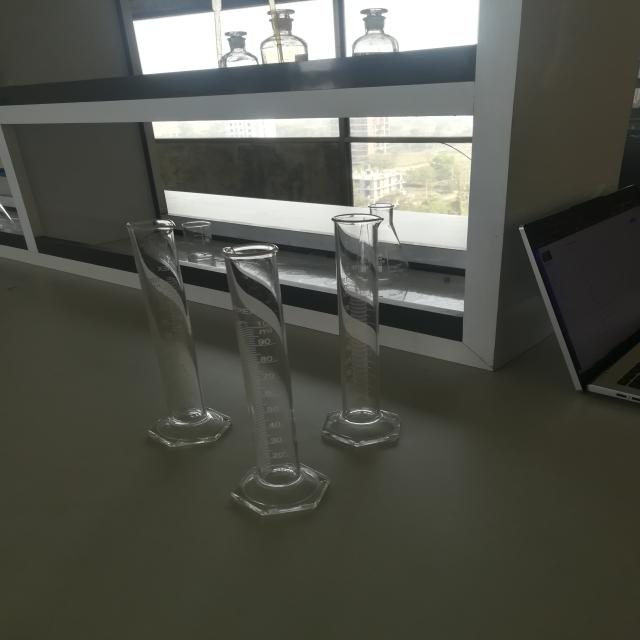Measuring_Cylinder: (207, 215, 335, 538), (101, 202, 242, 472), (306, 180, 423, 468)
